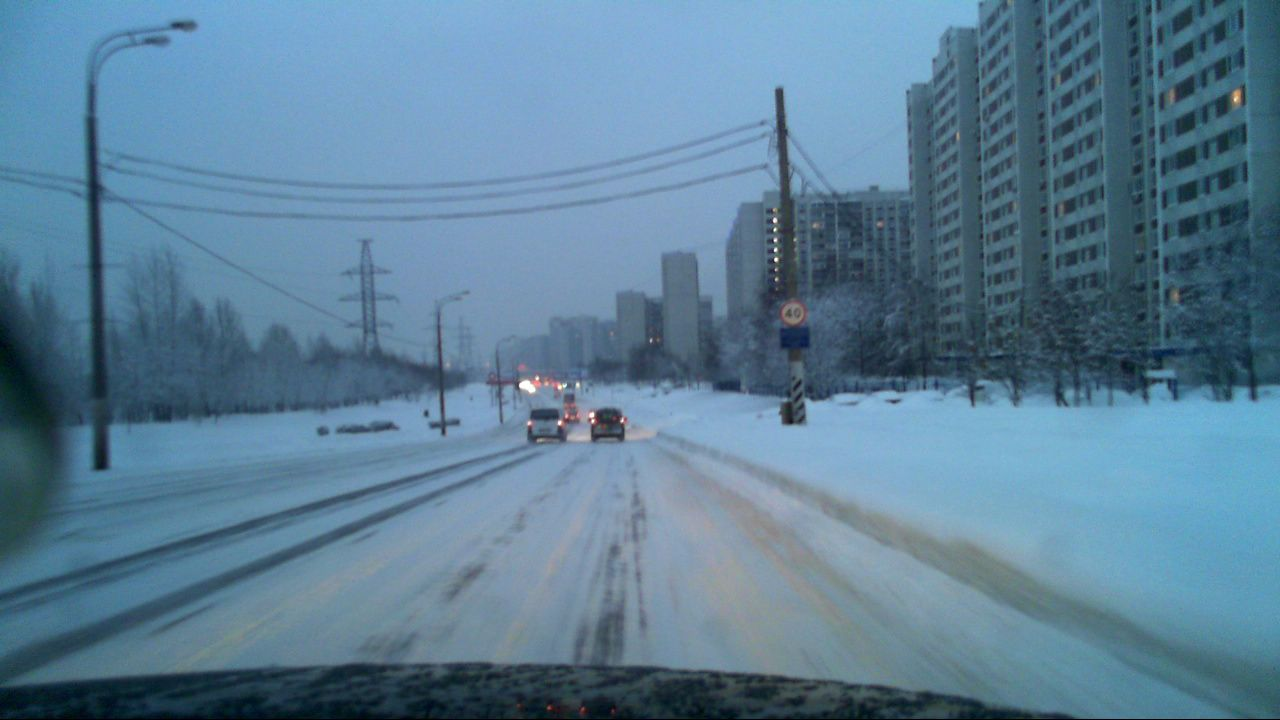speed_warning_40: (776, 300, 806, 327)
